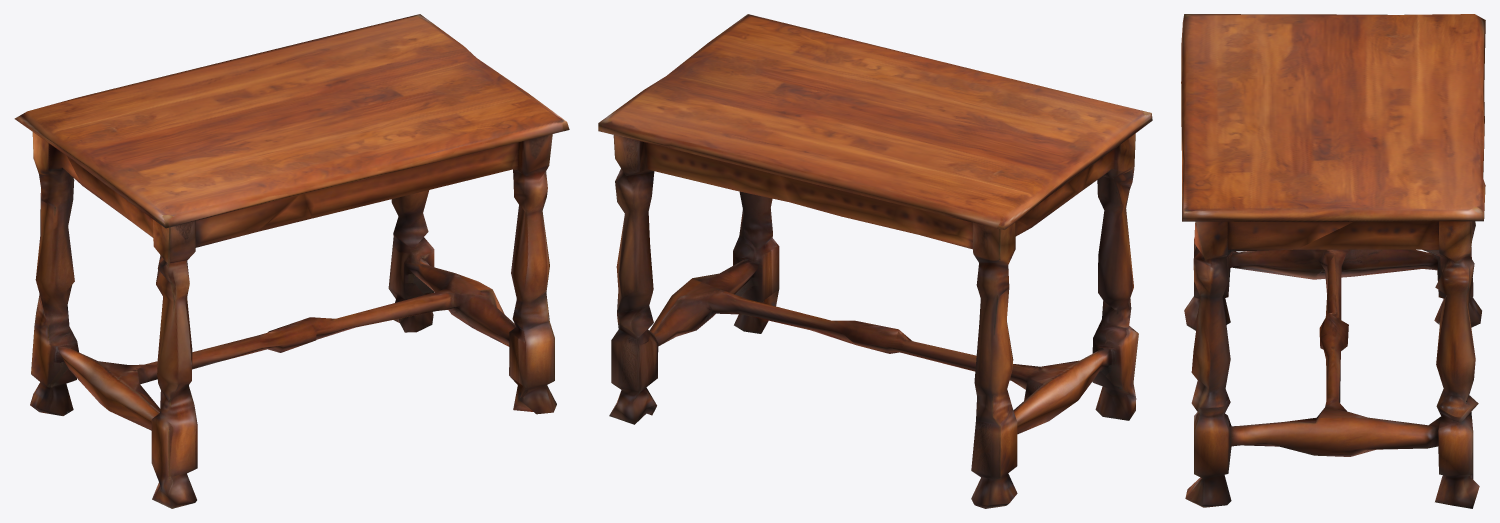
File: Vintage Table.glb
The picture shows the model from 3 angles, left to right: view 1: azimuth 30°, elevation 25°; view 2: azimuth 150°, elevation 25°; view 3: azimuth 270°, elevation 25°; orthographic projection.
Bounding box in the file's own units: 1.92 × 1.35 × 1.23.
1 material, 1 textured.
